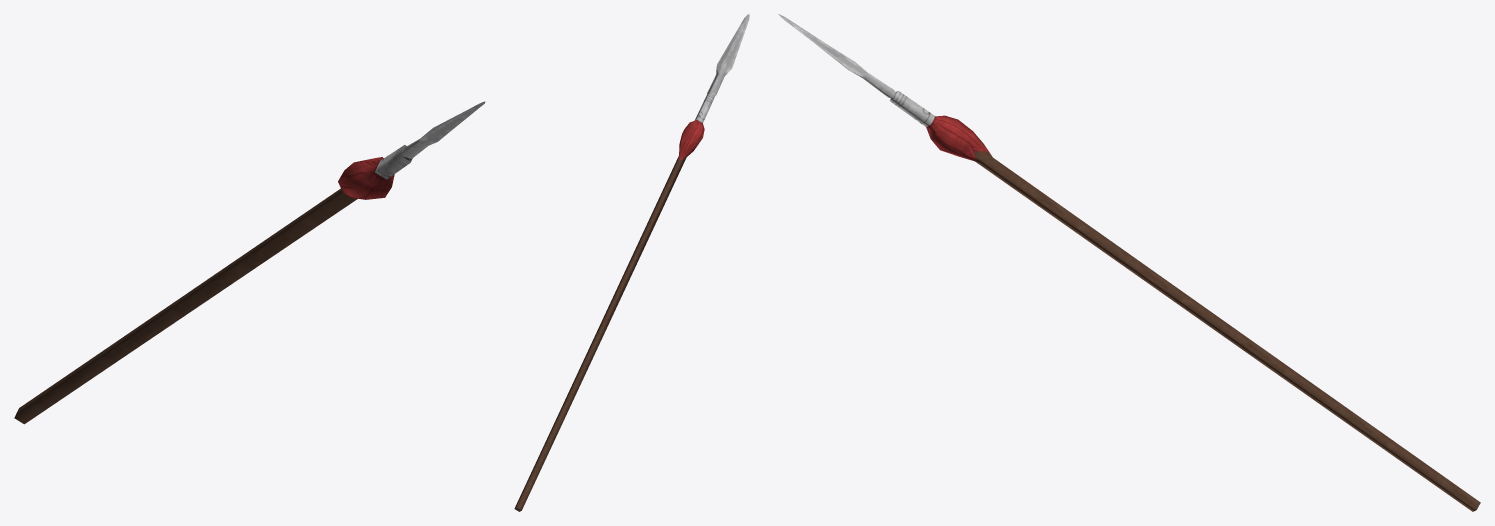
File: rider-spear-slice-bronzeweapons.glb
The picture shows the model from 3 angles, left to right: view 1: azimuth 30°, elevation 25°; view 2: azimuth 150°, elevation 25°; view 3: azimuth 270°, elevation 25°; orthographic projection. The views are drawn at different scales.
Size of the model in its own units: 0.1533 by 2.2 by 2.82.
1 material, 1 textured.
